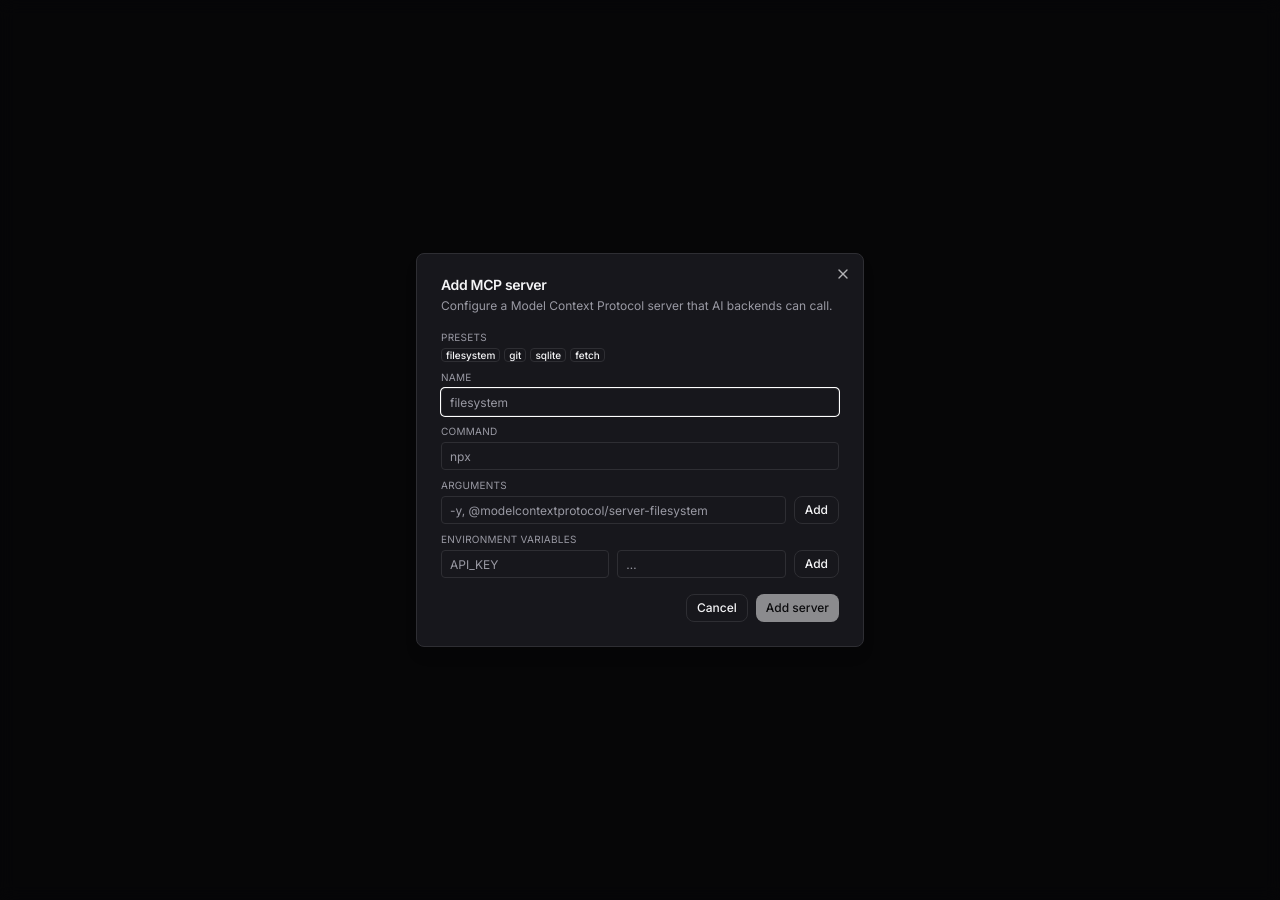
Scenario: AddMCPDialog › splits a comma-separated arg entry into separate args
The width and height of the screenshot is (1280, 900).
Type "-y, @scope/pkg" into the field with test id "mcp-arg-input" at (613, 510), box [441, 496, 786, 524]
Then press Enter
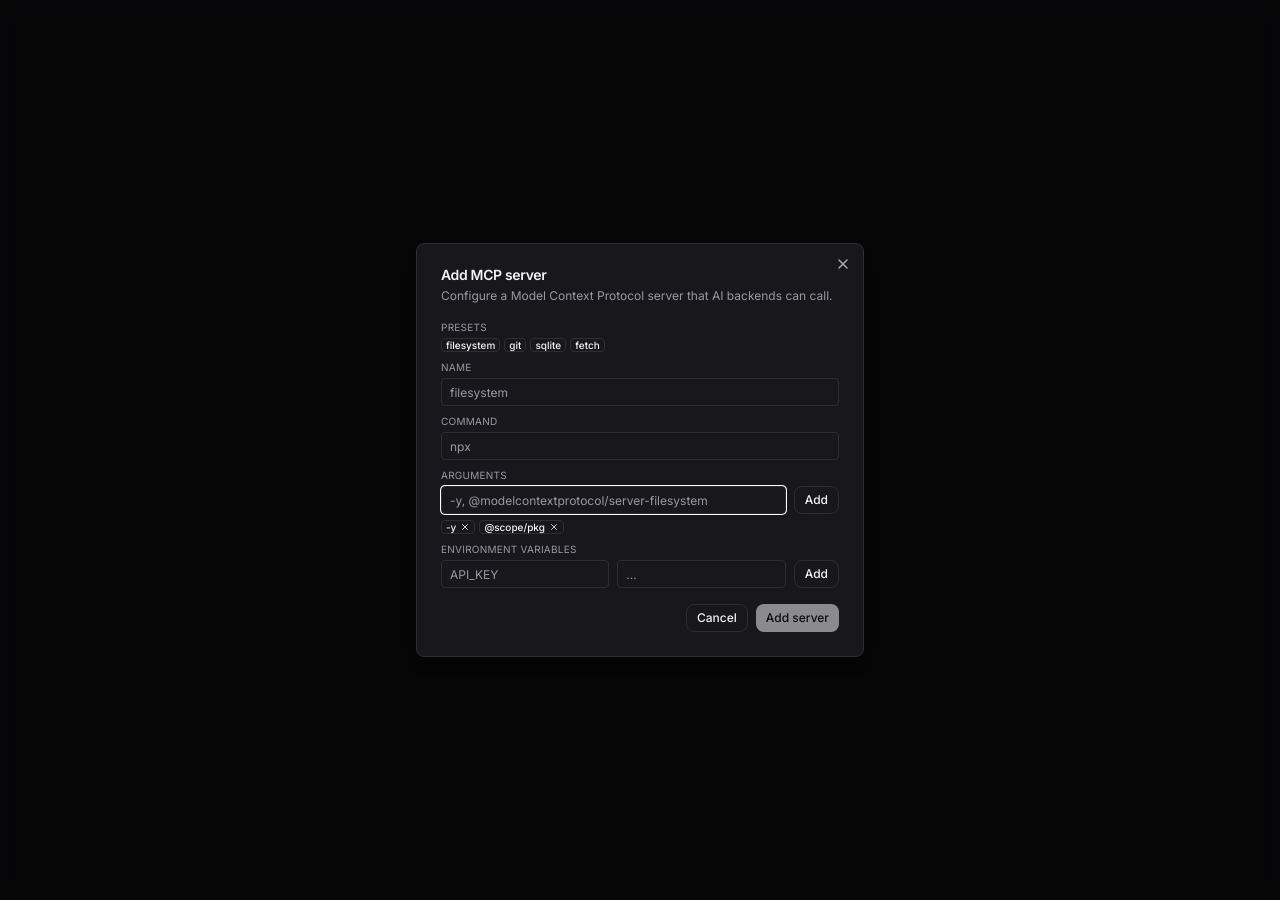
Now the text "-y" is shown, box [441, 520, 475, 534]
Now the text "@scope/pkg" is shown, box [479, 520, 564, 534]
